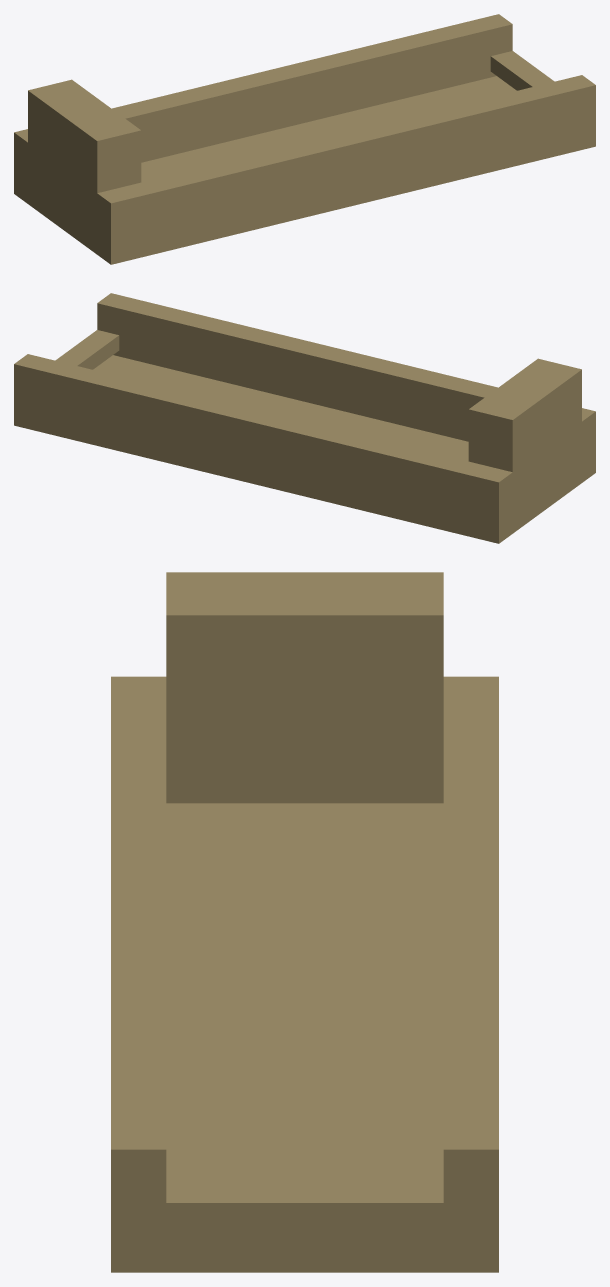
The model's file is bed.fbx.
The picture shows the model from 3 angles, top to bottom: view 1: azimuth 30°, elevation 25°; view 2: azimuth 150°, elevation 25°; view 3: azimuth 270°, elevation 25°; orthographic projection. The views are drawn at different scales.
Parts seen in each view (by area): view 1: Cube; view 2: Cube; view 3: Cube.
Boxes of the visible parts, x1,y1,x2,y2 form: Cube: [14, 14, 595, 264]; Cube: [14, 293, 595, 543]; Cube: [111, 572, 498, 1272].
Size of the model in its own units: 961 by 215 by 333.
